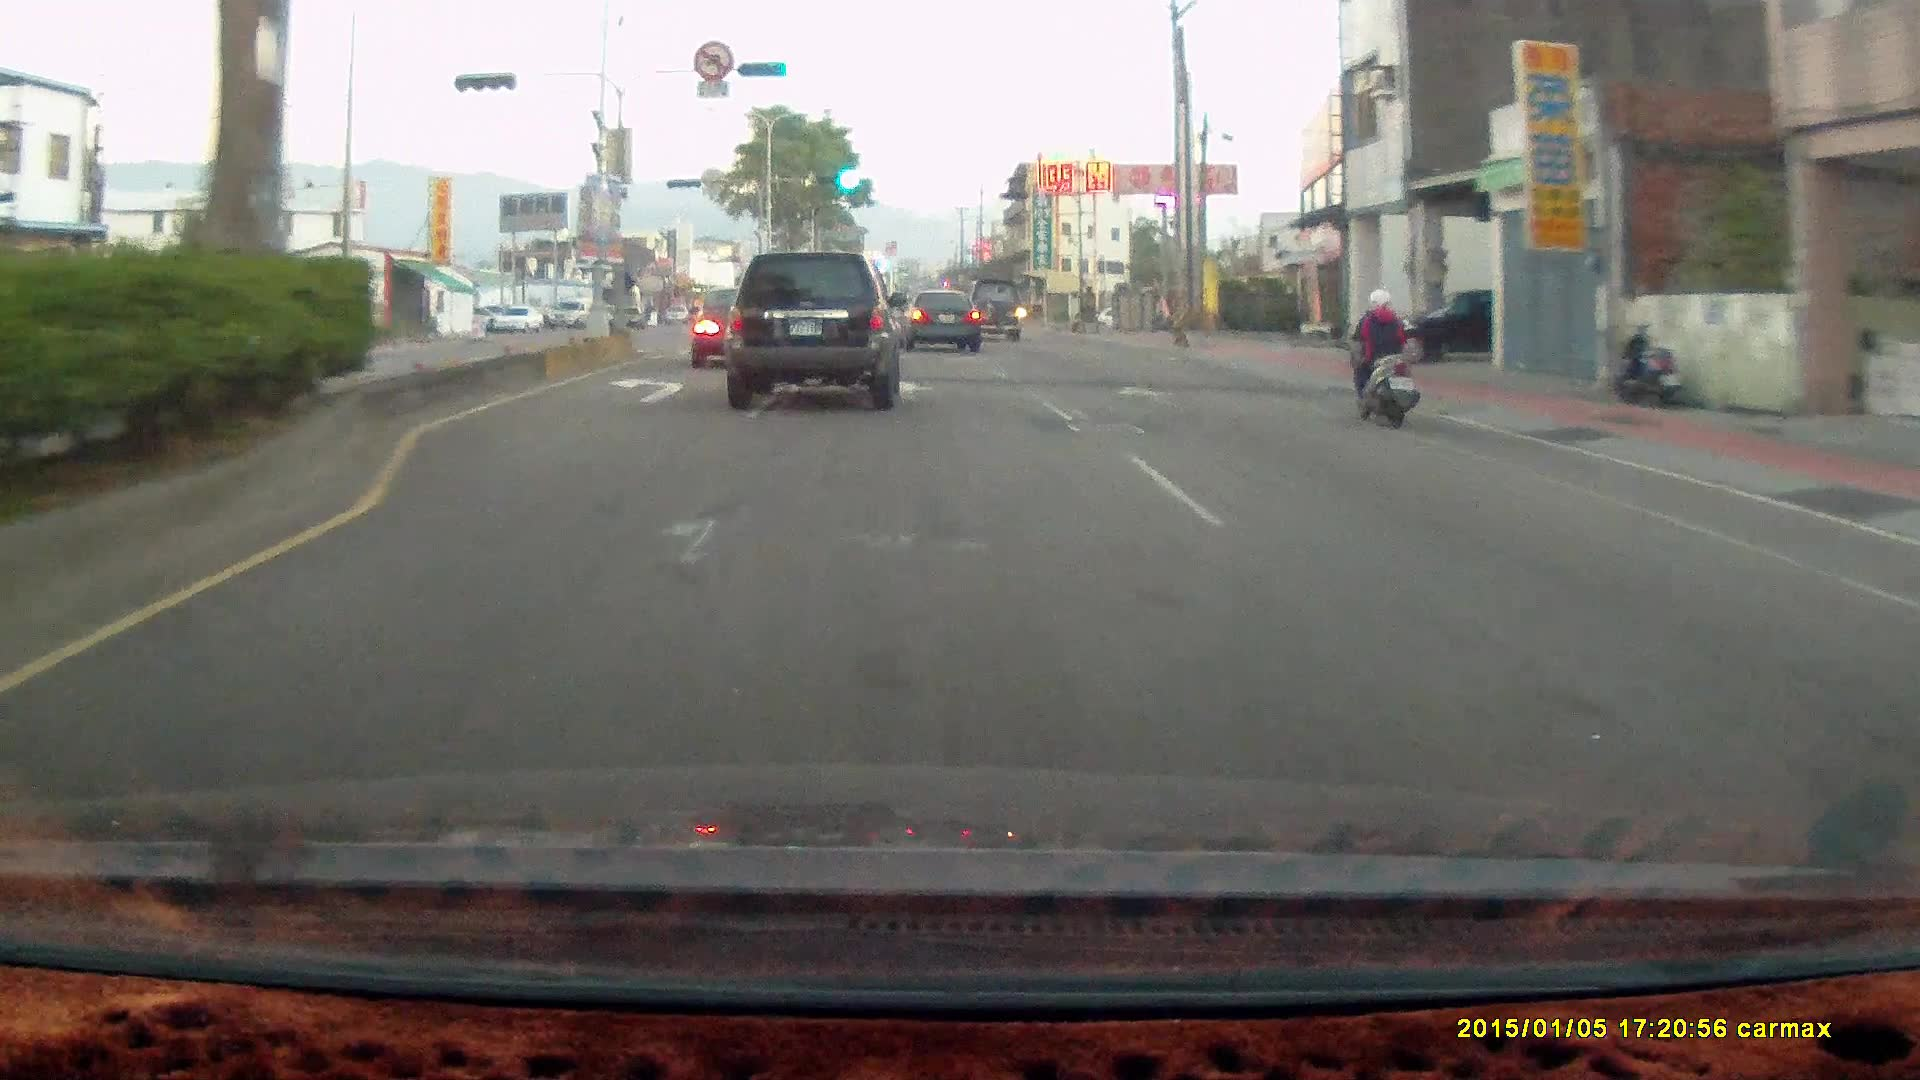rider: (1333, 277, 1430, 438), (1340, 284, 1418, 426)
vehicle: (718, 252, 904, 422), (722, 252, 907, 409), (1374, 287, 1559, 368), (1377, 288, 1504, 370), (690, 289, 800, 375), (687, 289, 794, 369), (897, 289, 981, 352), (903, 291, 984, 358), (960, 280, 1025, 345), (958, 279, 1022, 346), (489, 304, 544, 333), (547, 299, 597, 327)
